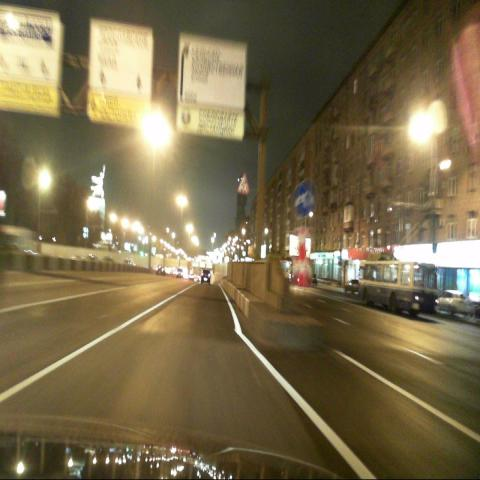1_15: (236, 172, 250, 195)
